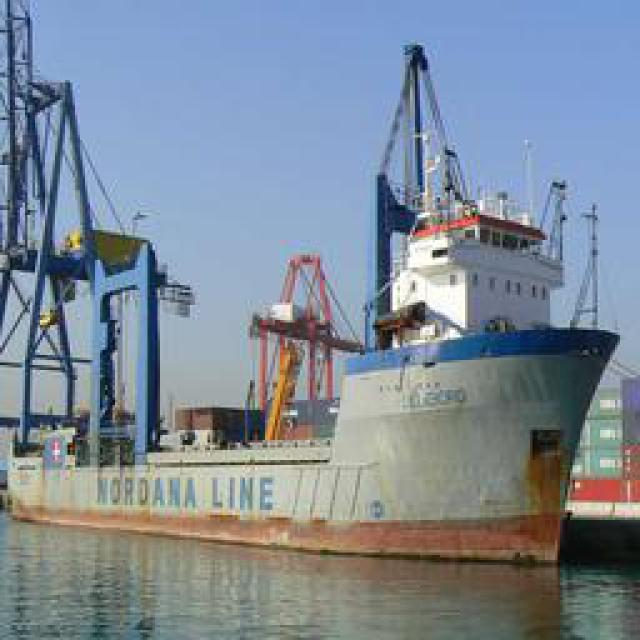Ship: (1, 40, 620, 573)
